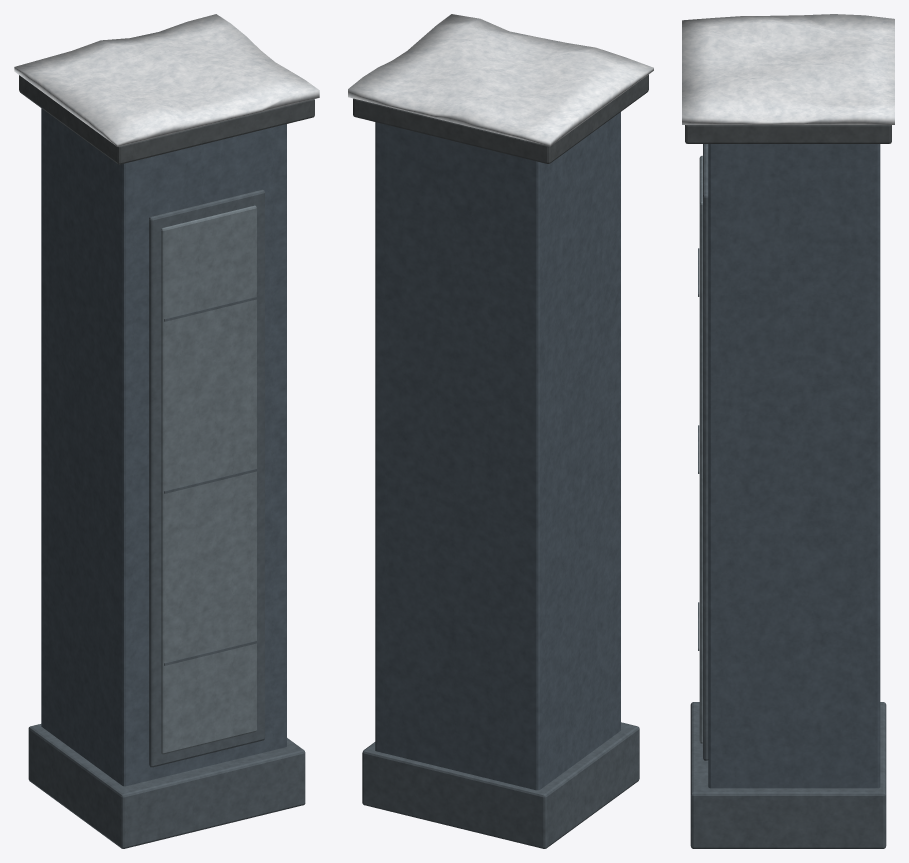
The model's file is SF_Pier_21.glb.
3 views of the same model, side by side, from view 1: azimuth 30°, elevation 25°; view 2: azimuth 150°, elevation 25°; view 3: azimuth 270°, elevation 25° (orthographic). The views are drawn at different scales.
Parts seen in each view (by area): view 1: SF_Pier_21; view 2: SF_Pier_21; view 3: SF_Pier_21.
Boxes of the visible parts, box(x1,y1,x2,y2) form: SF_Pier_21: box(14, 14, 319, 848); SF_Pier_21: box(348, 14, 653, 848); SF_Pier_21: box(682, 14, 894, 848).
Bounding box in the file's own units: 6.15 × 21.05 × 5.45.
1 material, 1 textured.
